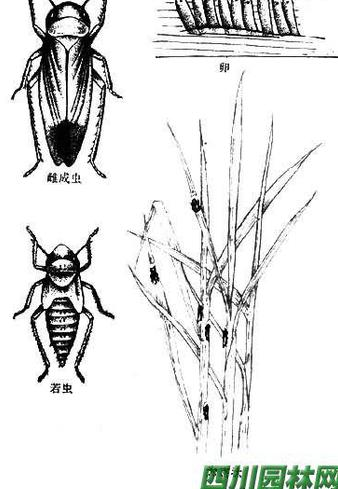pest: (37, 3, 98, 168), (39, 240, 82, 373), (255, 1, 277, 38), (172, 1, 194, 32), (229, 1, 246, 32), (285, 1, 300, 36), (243, 1, 258, 34), (273, 1, 287, 36), (191, 1, 207, 30), (203, 1, 219, 27), (219, 2, 234, 29), (147, 265, 161, 286), (219, 326, 230, 351), (201, 404, 211, 421), (195, 304, 205, 320), (193, 198, 203, 213), (206, 324, 213, 342)
